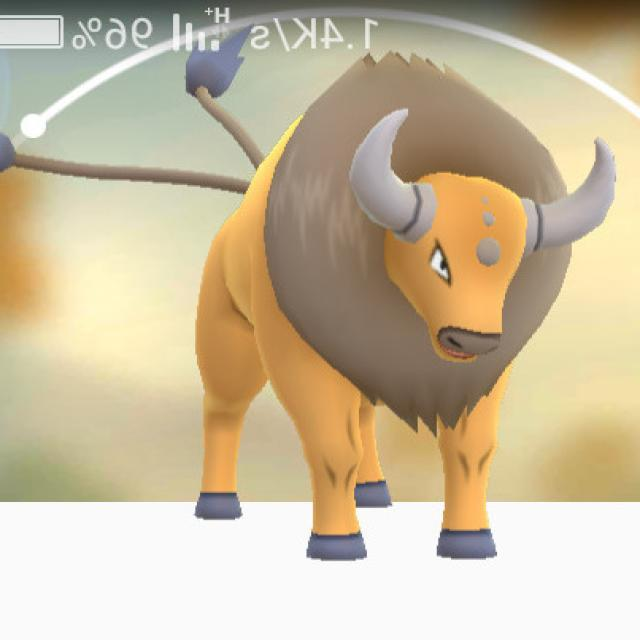Tauros: (184, 46, 583, 559)
